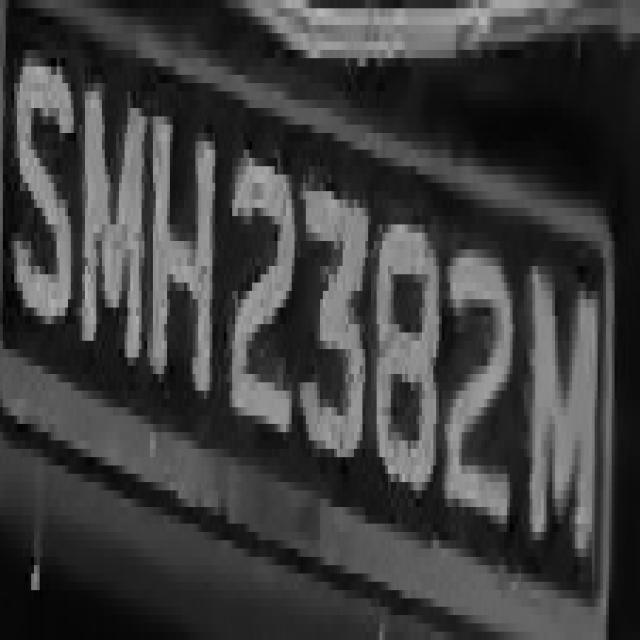2: (439, 233, 515, 557), (224, 125, 292, 482)
3: (297, 133, 368, 482)
8: (365, 167, 453, 516)
H: (142, 75, 226, 440)
M: (521, 241, 609, 574), (79, 50, 150, 399)
S: (8, 17, 76, 340)
